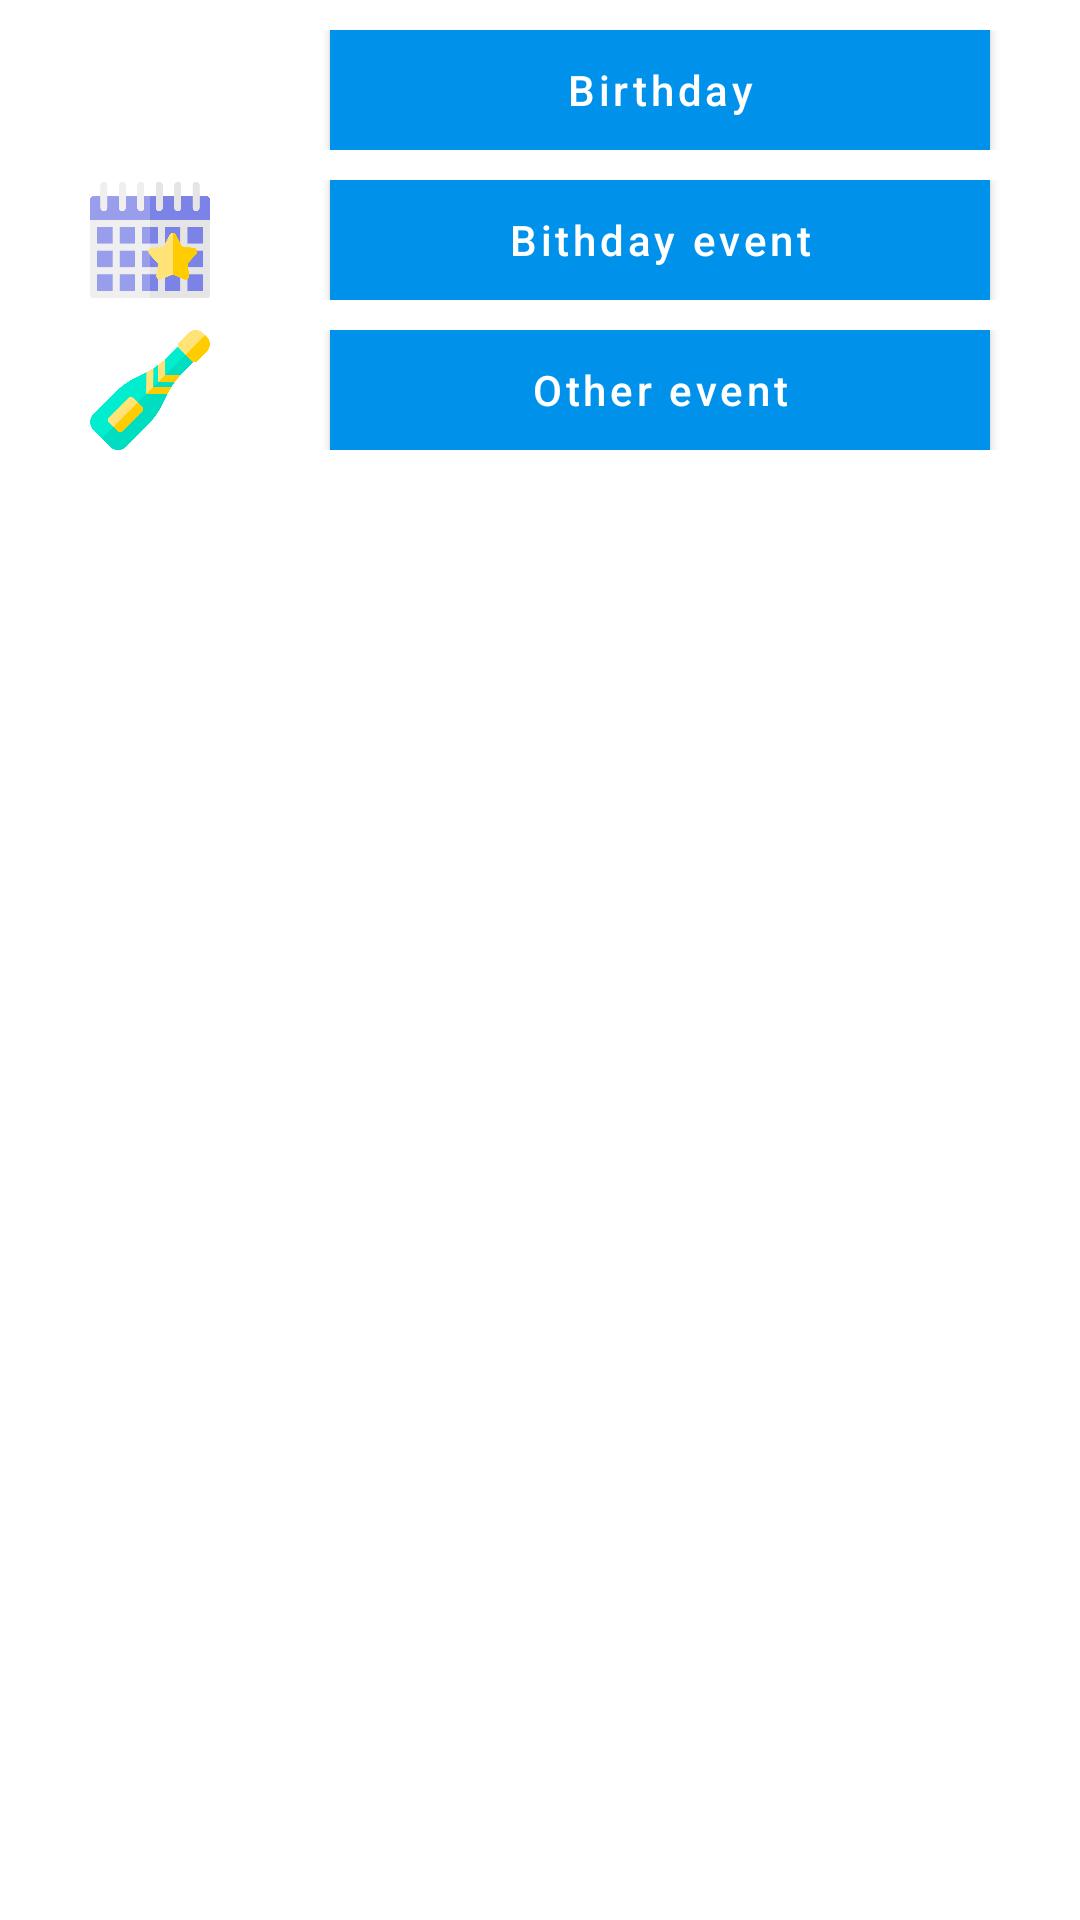

Named icons in this screenshot (1080w x 1920h) and their bounding boxes, (x1, y1, x2, y2):
im calendar event: (90, 182, 210, 298)
im champagne: (90, 330, 210, 450)
